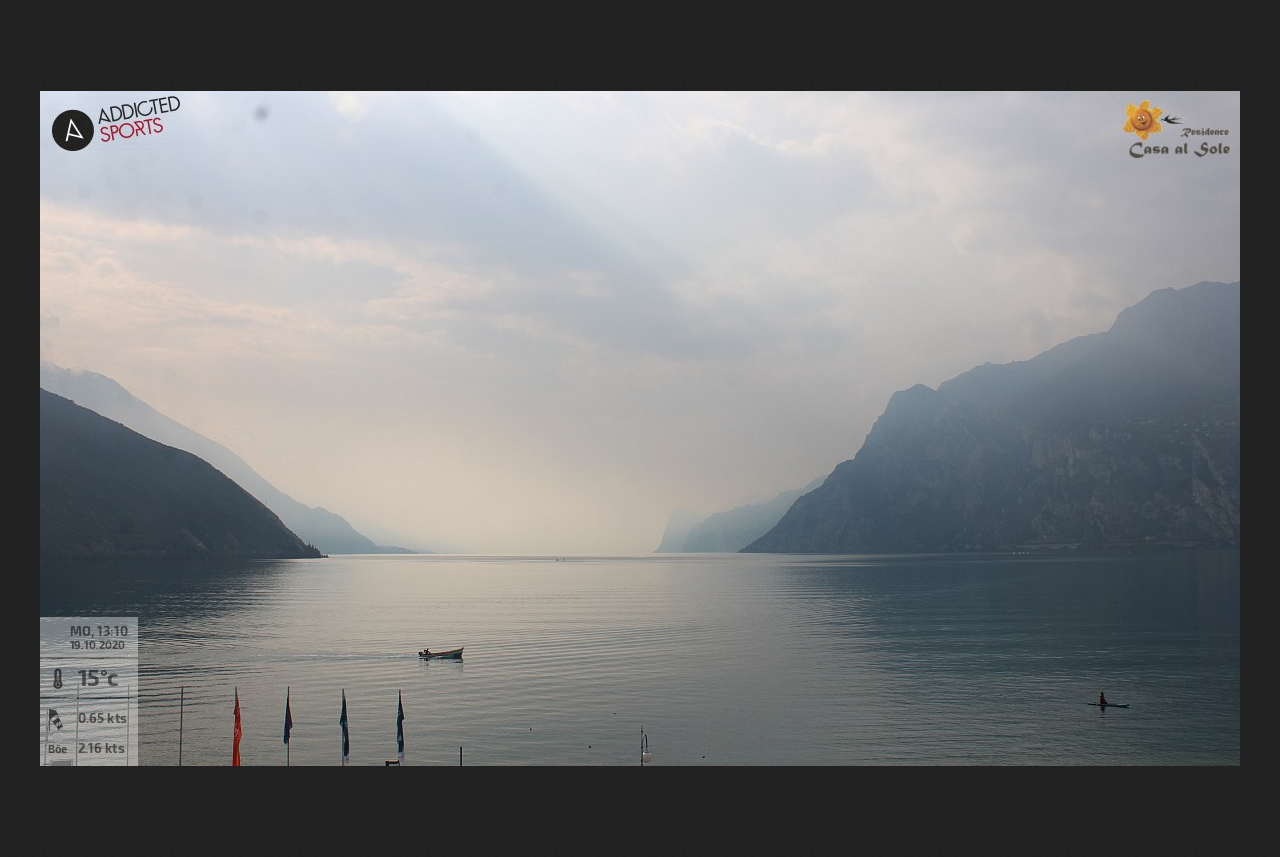no: (335, 692, 353, 762), (231, 696, 244, 763), (281, 692, 294, 749), (396, 698, 409, 753)
